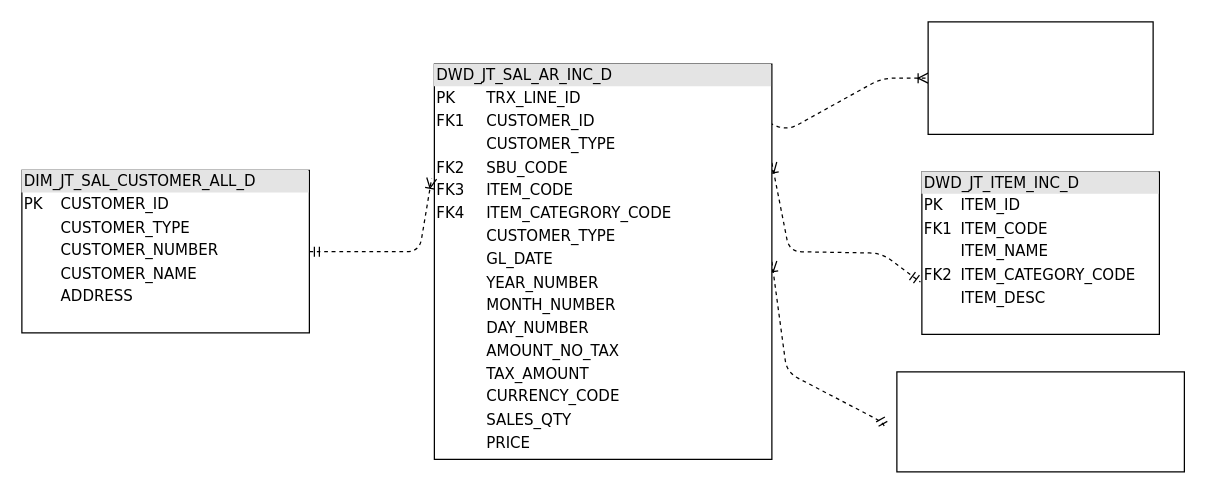
The diagram is 1206 pixels wide and 494 high, and some of its shapes have lost their labels. The box of each missing label's shape, as (x1, y1, x2, y2) in pixels:
DIM_JT_ITEM_CATEGORY_INC_D PK CATEGORY_CODE CATEGORY_NAME: (896, 371, 1184, 472)
DIM_JT_SBU_ALL_D PK SBU_CODE FK1 BU_ID SBU_NAME: (927, 21, 1153, 134)
